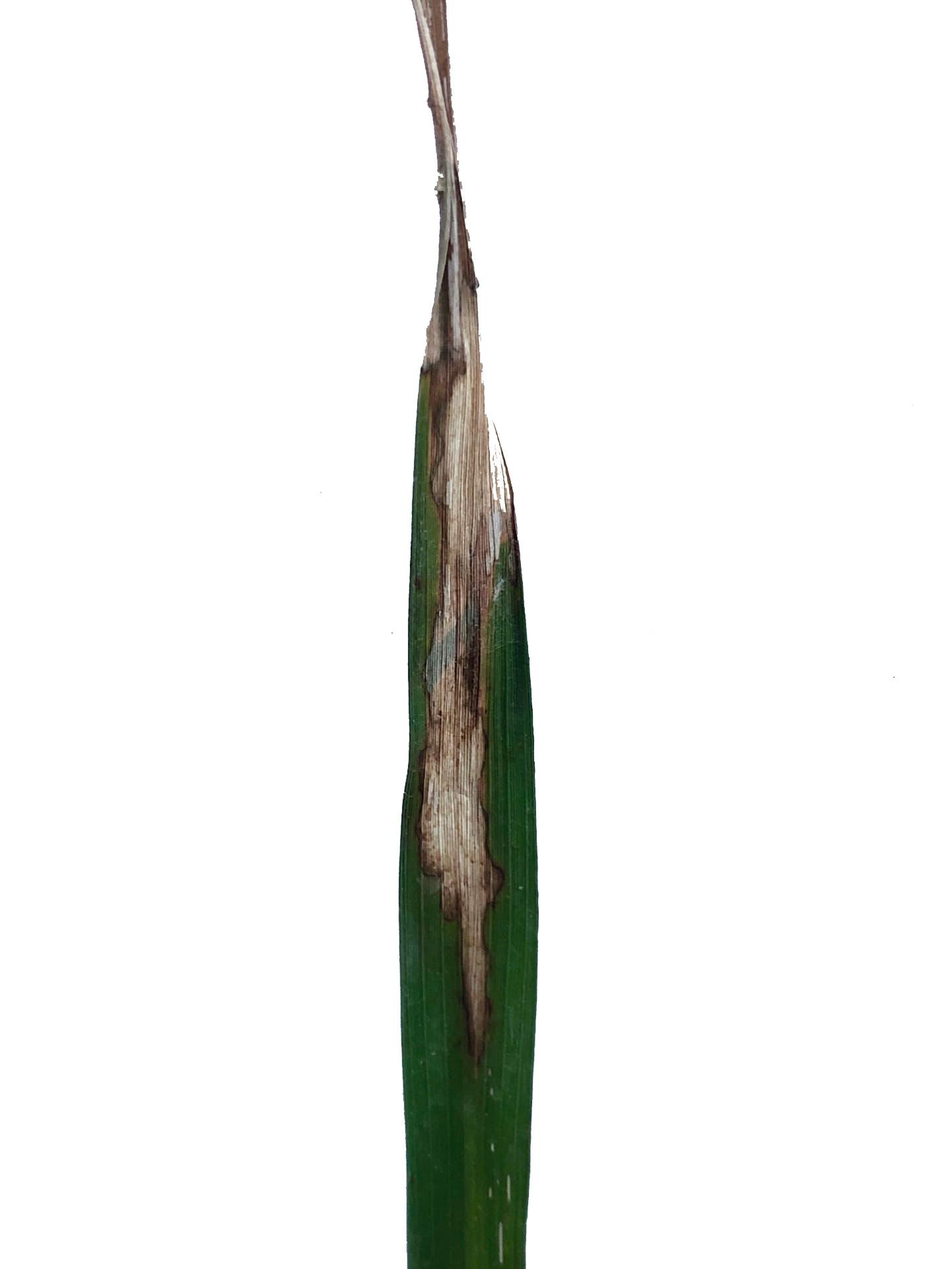Blight: (403, 0, 542, 1044)
